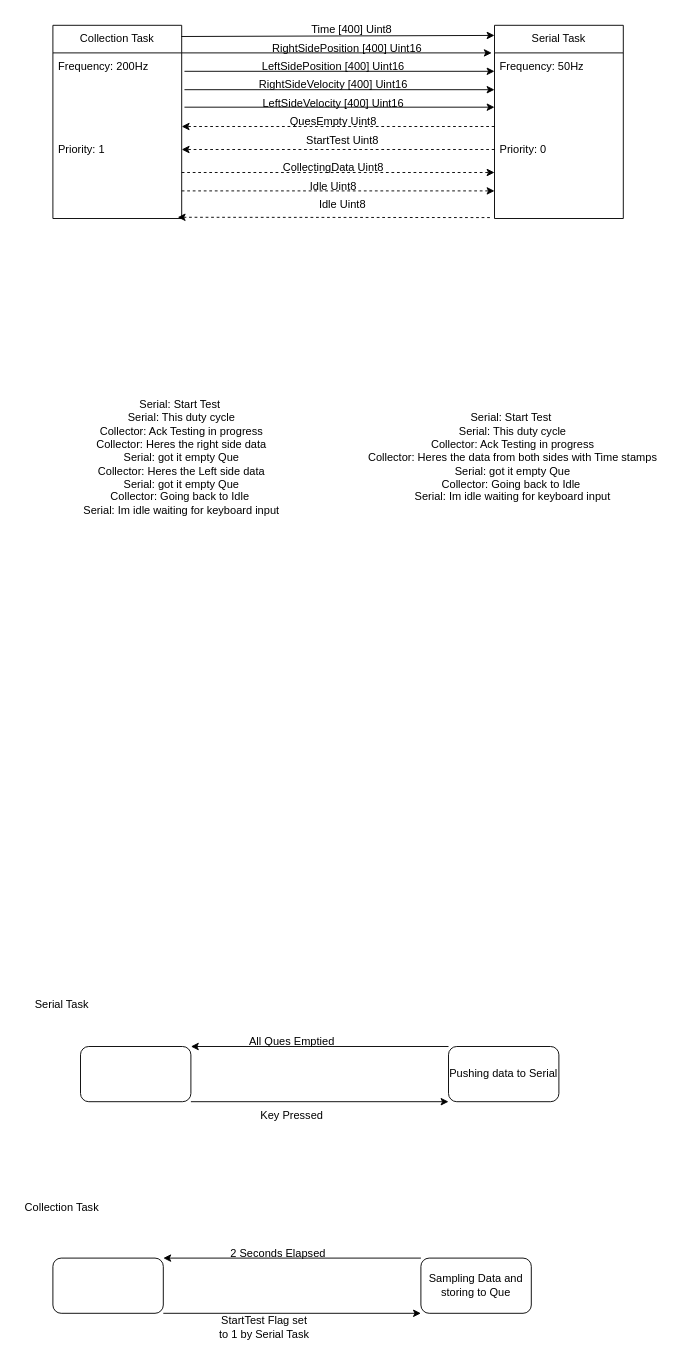
Some shapes in this 694 by 1356 pixel diagram are drawn without their labels. Here are the shapes that lost their labels. From the top down, the centre of each, then its label:
the point at 135,1074: Waiting for Keyboard Input
the point at 107,1285: IDLE
